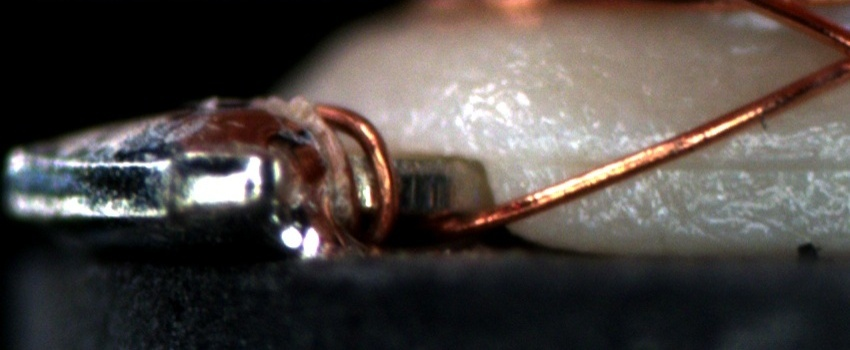CL: (824, 29, 850, 82)
DL: (511, 127, 850, 191)
TE: (305, 100, 428, 247)
